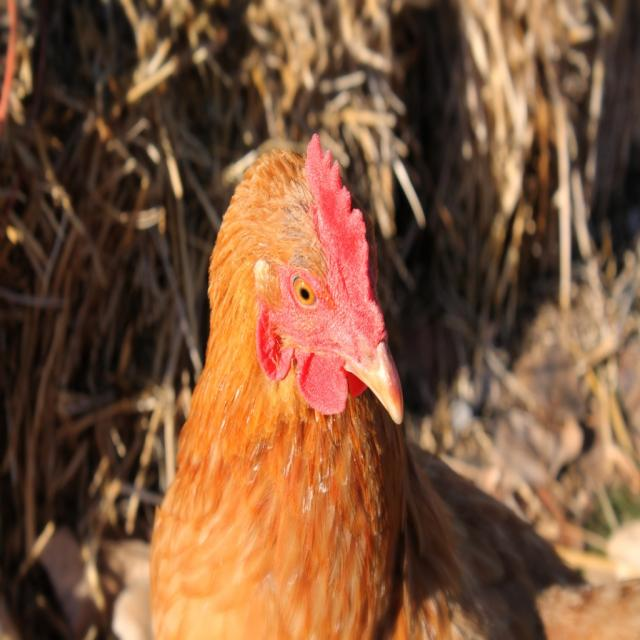Chicken: (148, 130, 640, 640)
